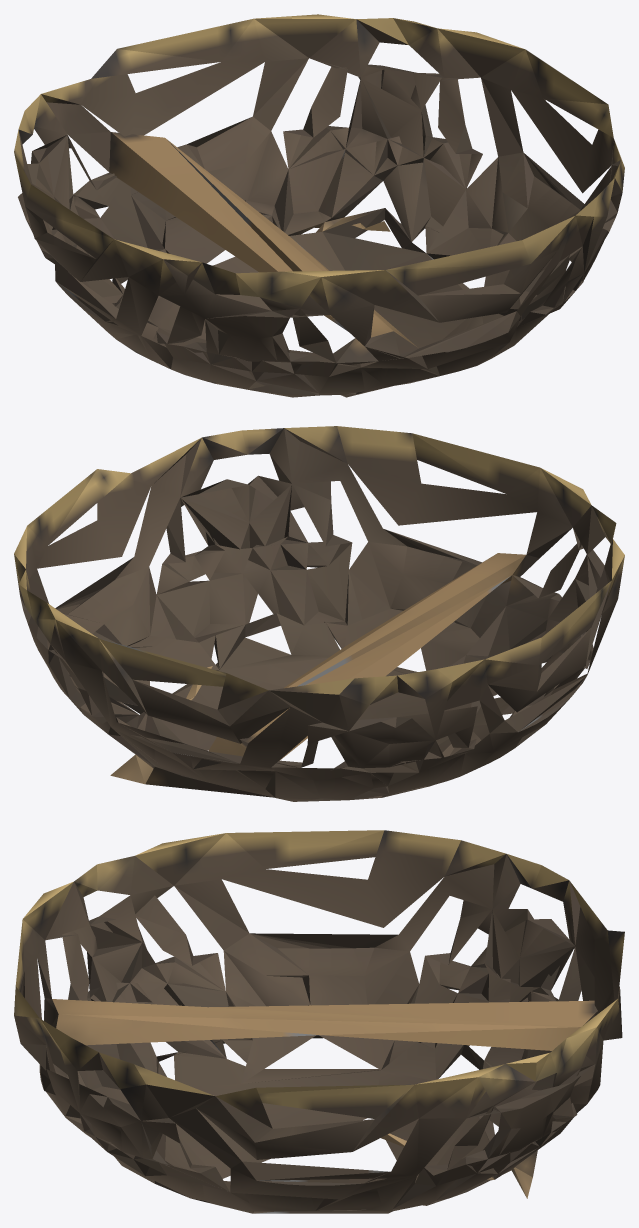
Rendered from thung_chai_edits.far.glb.
3 views of the same model, one above another, from view 1: azimuth 30°, elevation 25°; view 2: azimuth 150°, elevation 25°; view 3: azimuth 270°, elevation 25° (orthographic). The views are drawn at different scales.
Visible parts, largest first — view 1: thung_chai_edits; view 2: thung_chai_edits; view 3: thung_chai_edits.
Part boxes in pixels (x1,y1,x2,y2): thung_chai_edits: (14, 14, 624, 397); thung_chai_edits: (14, 426, 624, 801); thung_chai_edits: (14, 830, 624, 1213).
Bounding box in the file's own units: 1.73 × 0.6224 × 1.73.
1 material, 1 textured.
